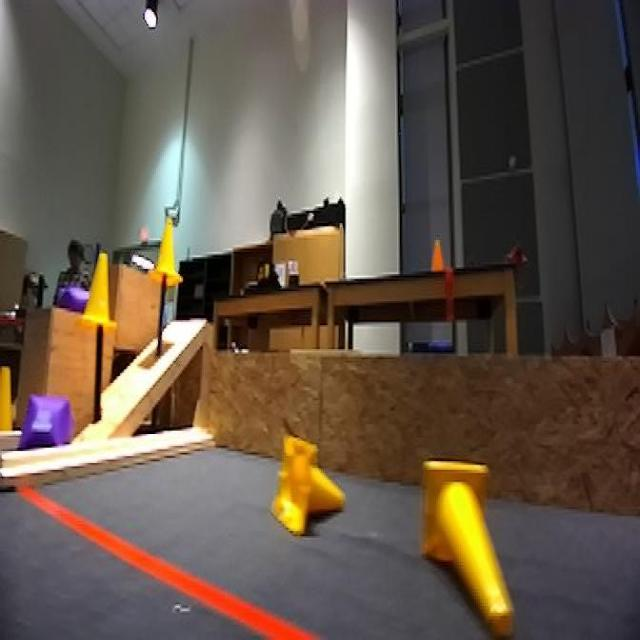frc_cone: (418, 454, 526, 640), (271, 436, 337, 536), (83, 247, 117, 337), (151, 216, 186, 298), (0, 362, 15, 441)
frc_cube: (20, 395, 71, 458), (49, 282, 95, 315)
